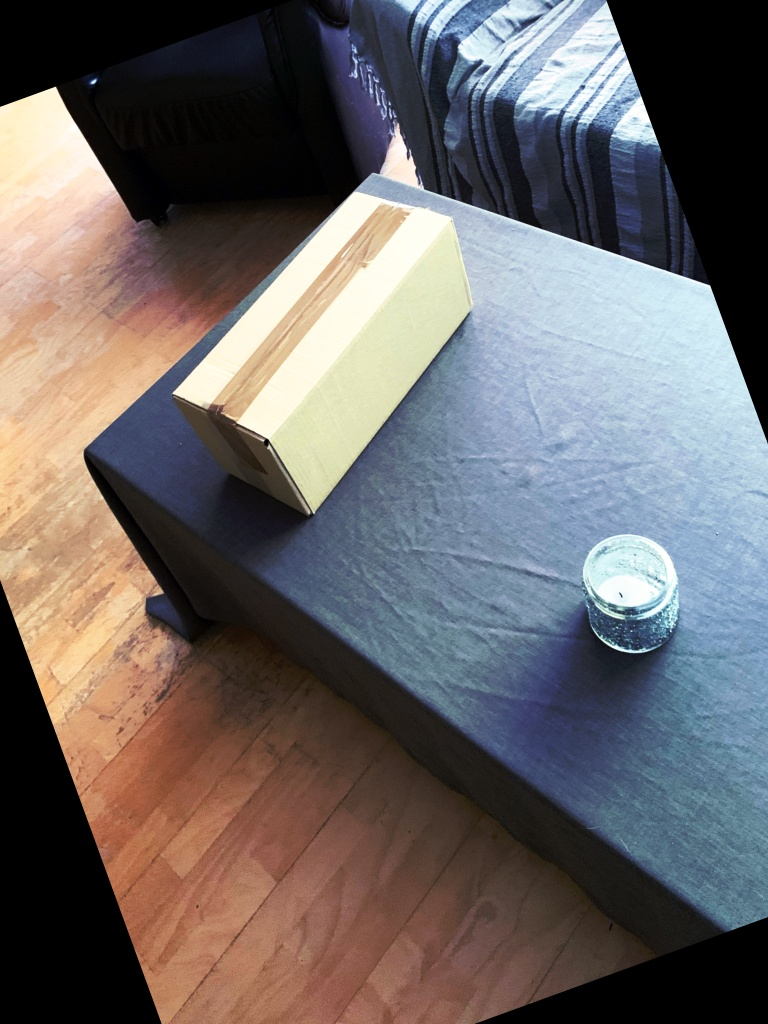good-parcel: (159, 173, 490, 549)
